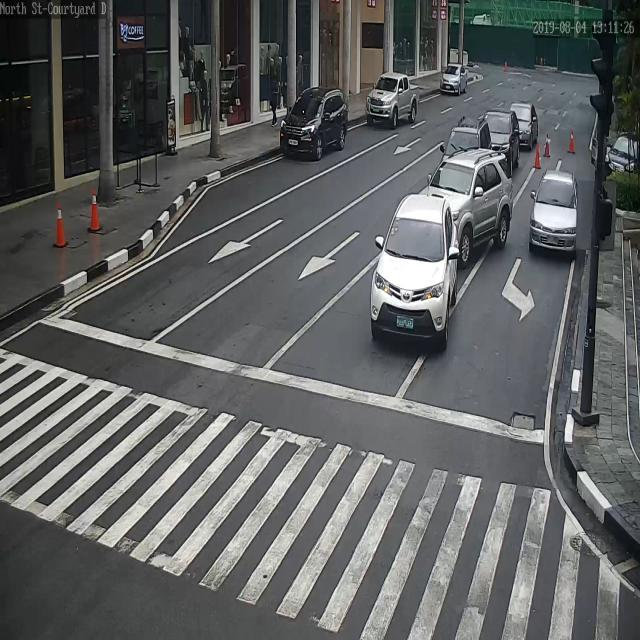car: (372, 193, 463, 345), (423, 147, 516, 259), (279, 85, 351, 161), (528, 169, 578, 255), (365, 74, 419, 128), (480, 108, 521, 169), (445, 119, 493, 164), (507, 101, 540, 148), (607, 130, 640, 176), (440, 63, 471, 94)
